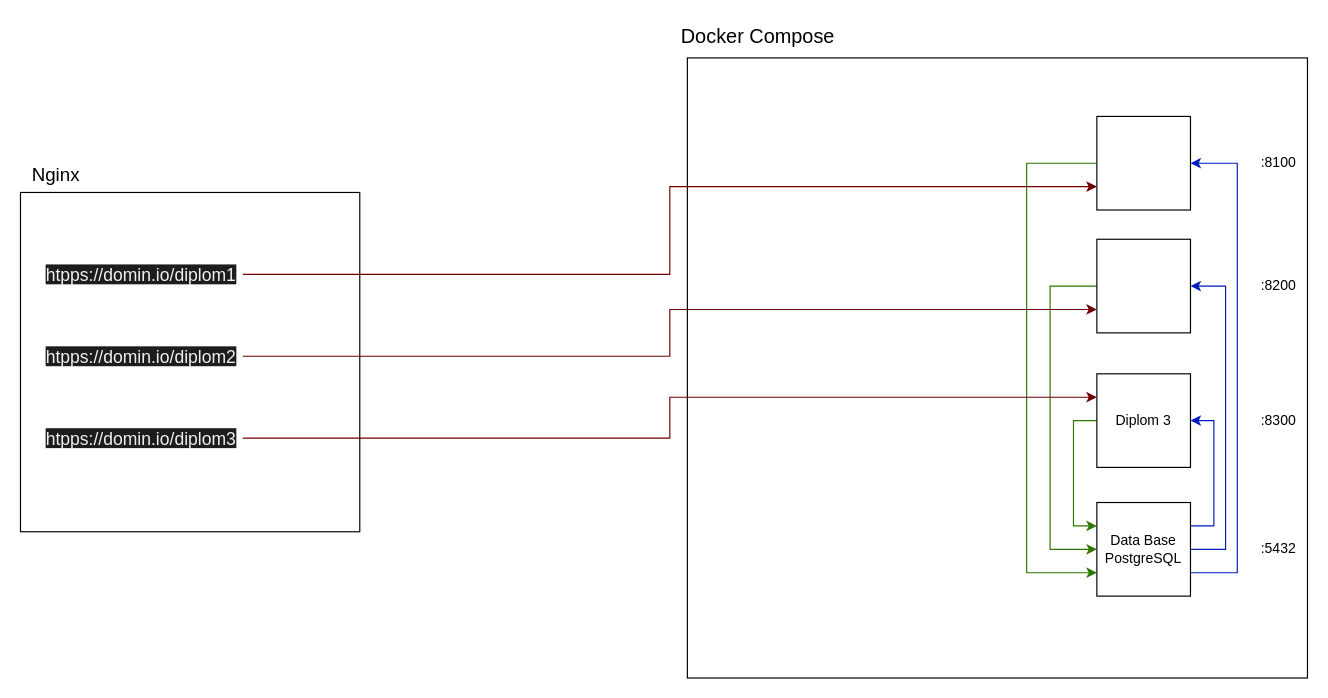
This 1328x698 diagram has some shape labels left out. The centre of each missing label's shape, as x and y in pixels:
"Diplom 1" goes at [1143,162].
"Diplom 2" goes at [1143,285].
